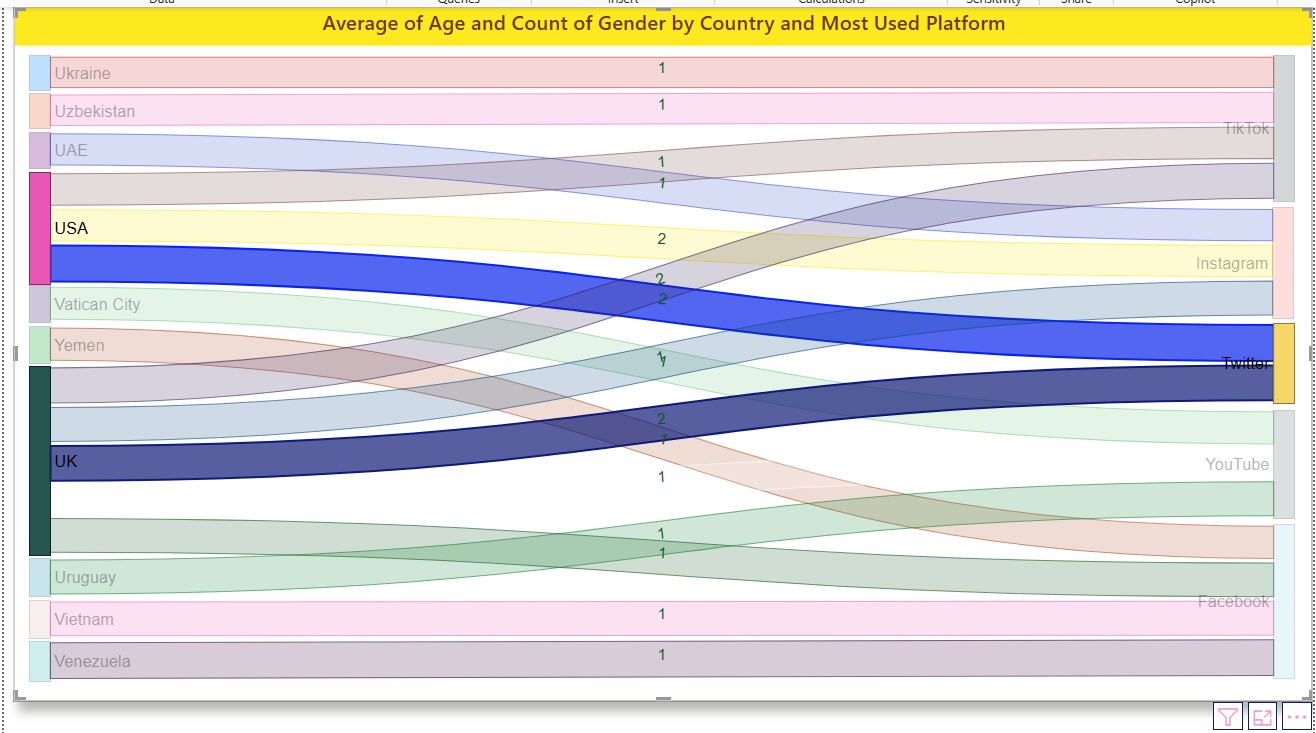

What the dashboard file says about the page in this screenshot:
{"tool":"powerbi","page":{"name":"Visual repr","canvas":[1280,720],"ordinal":1},"visuals":[{"type":"sankey02300D1BE6F5427989F3DE31CCA9E0F32020","title":"Average of Age and Count of Gender by Country and Most Used Platform","fields":{"Source":["Students Social Media Addiction.Country"],"SourceLabels":["Count(Students Social Media Addiction.Gender)"],"Destination":["Students Social Media Addiction.Most_Used_Platform"],"Weight":["Avg(Students Social Media Addiction.Age)"]},"box":[9.6,0,1270.7,679.2],"z":0}]}

Visuals, with their boxes in screenshot pixels (x1, y1, x2, y2):
"Average of Age and Count of Gender by Country and Most Used Platform" sankey02300D1BE6F5427989F3DE31CCA9E0F32020: [left=27, top=17, right=1303, bottom=699]
